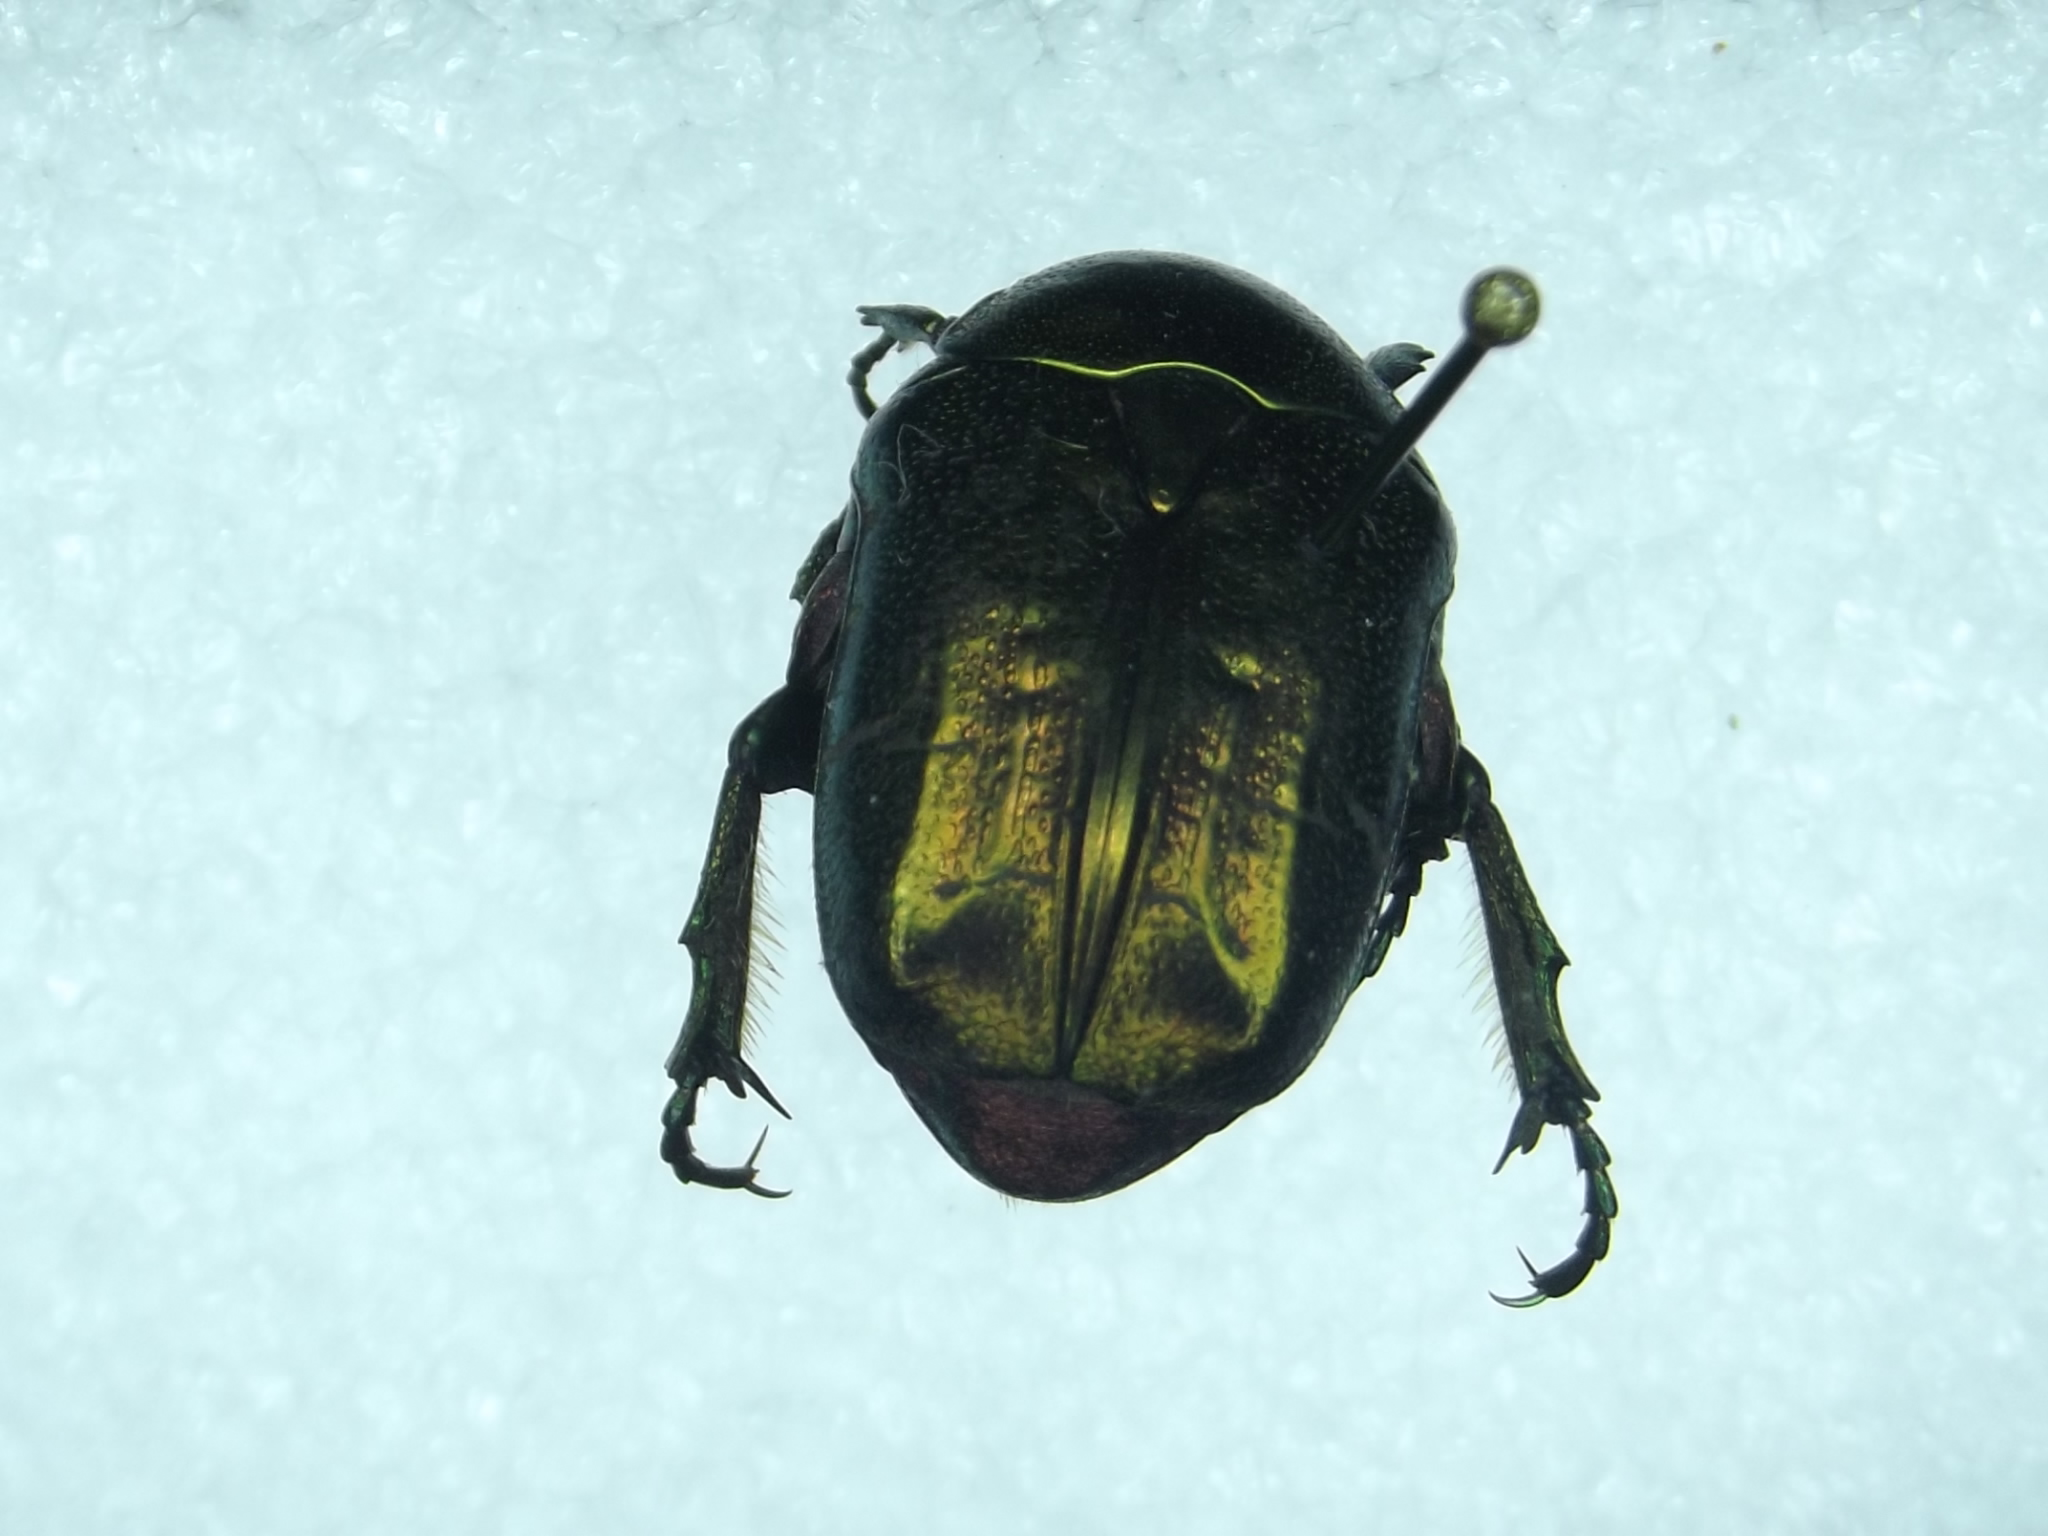Cetonia_aurata: (613, 198, 1630, 1346)
